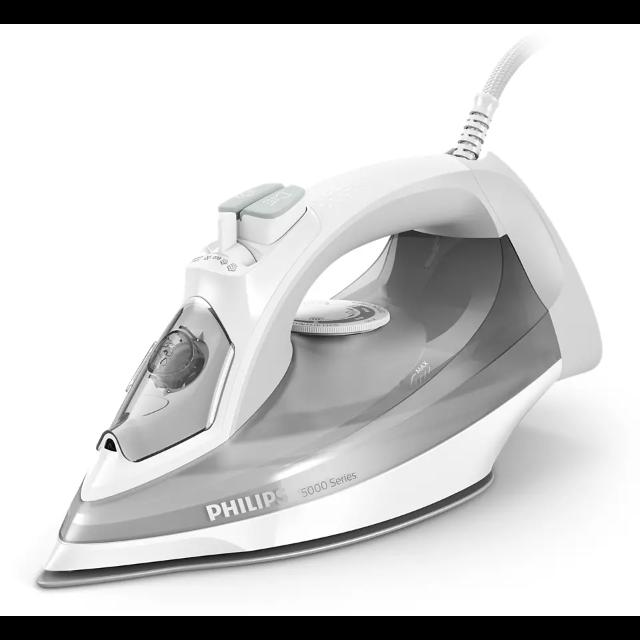Clothes-Iron: (26, 112, 604, 592)
